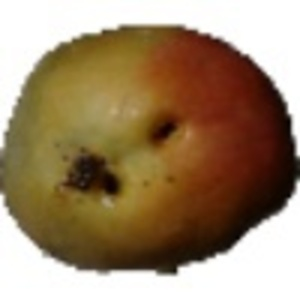mamão: (3, 14, 295, 267)
